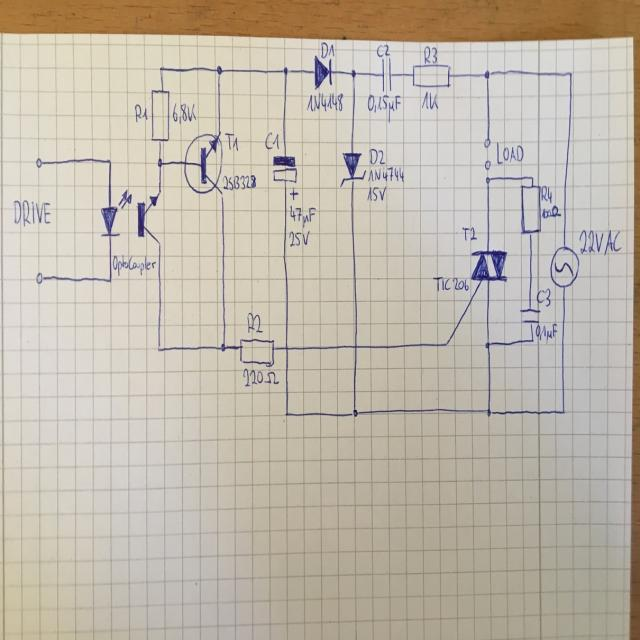capacitor: (271, 154, 299, 200), (379, 56, 394, 92), (518, 306, 542, 325)
crossover: (283, 343, 290, 352), (352, 342, 358, 351)
diode: (338, 151, 366, 188), (313, 54, 332, 90)
junction: (482, 68, 492, 80), (282, 65, 291, 78), (215, 64, 223, 78), (350, 407, 360, 418), (485, 407, 495, 417), (350, 68, 358, 80), (219, 341, 227, 353), (484, 176, 491, 186), (155, 343, 162, 353), (484, 340, 491, 349), (567, 69, 574, 78), (106, 157, 113, 166), (156, 157, 162, 167), (158, 64, 164, 74), (283, 410, 290, 418), (561, 408, 567, 416), (107, 276, 113, 284), (529, 174, 535, 180), (530, 337, 536, 343), (444, 340, 449, 347)
resistor: (520, 184, 542, 236), (411, 61, 451, 89), (150, 88, 170, 143), (239, 337, 275, 367)
source: (548, 244, 580, 288)
terminal: (34, 270, 46, 285), (34, 156, 44, 169), (484, 159, 491, 176), (483, 136, 491, 149)
text: (10, 197, 52, 228), (578, 228, 623, 255), (366, 92, 402, 123), (112, 253, 156, 276), (305, 91, 344, 112), (495, 140, 524, 165), (242, 367, 278, 387), (288, 203, 316, 228), (367, 165, 405, 183), (222, 173, 257, 191), (432, 275, 469, 292), (171, 101, 197, 124), (535, 322, 557, 344), (420, 89, 440, 110), (246, 311, 264, 334), (366, 184, 387, 203), (288, 229, 310, 247), (223, 130, 240, 152), (535, 286, 552, 307), (133, 102, 148, 124), (368, 147, 386, 165), (264, 131, 280, 151), (423, 44, 438, 64), (320, 40, 335, 59), (541, 204, 561, 218), (461, 225, 477, 242), (375, 42, 391, 57), (540, 184, 552, 204)
transistor: (183, 131, 223, 197)
